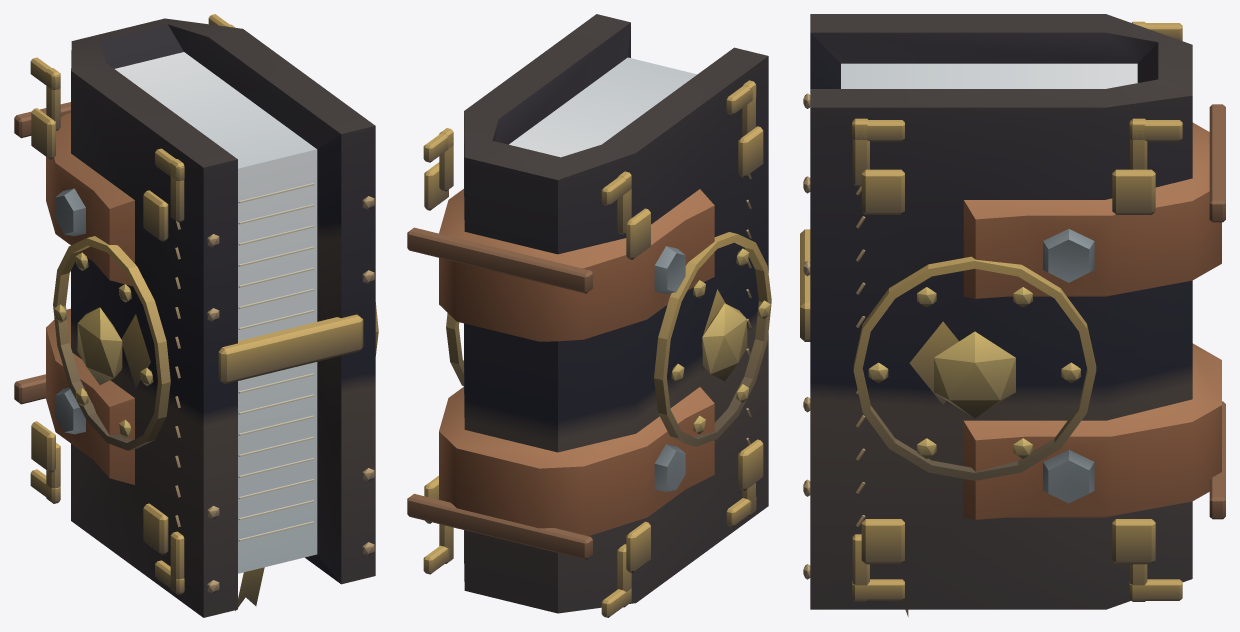
The model's file is grimorio_runico_t4.glb.
3 views of the same model, side by side, from view 1: azimuth 30°, elevation 25°; view 2: azimuth 150°, elevation 25°; view 3: azimuth 270°, elevation 25° (orthographic). The views are drawn at different scales.
Parts seen in each view (by area): view 1: grimorio_runico_t4_finished; view 2: grimorio_runico_t4_finished; view 3: grimorio_runico_t4_finished.
Boxes of the visible parts, x1,y1,x2,y2 form: grimorio_runico_t4_finished: (14,14,378,617); grimorio_runico_t4_finished: (407,14,771,617); grimorio_runico_t4_finished: (800,14,1225,616).
Bounding box in the file's own units: 0.3458 × 0.6315 × 0.442.
2 materials, 2 textured.
